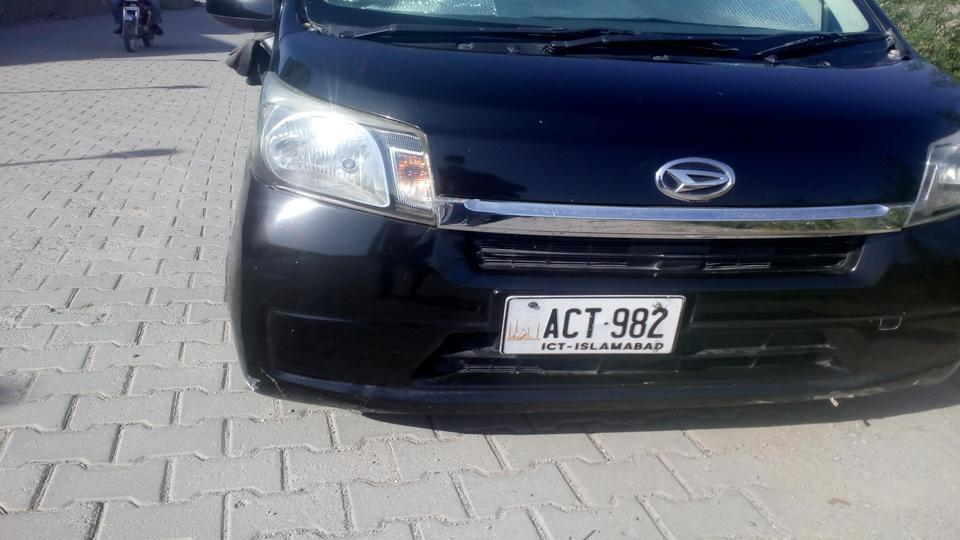NumberPlate: (503, 292, 682, 355)
